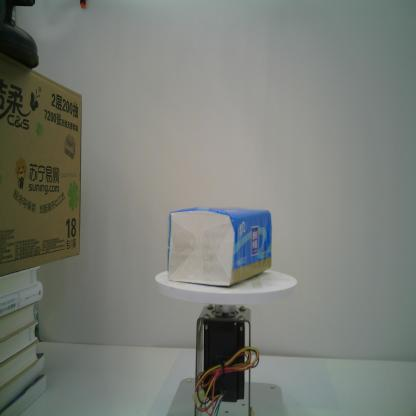Tissue: (166, 205, 273, 287)
